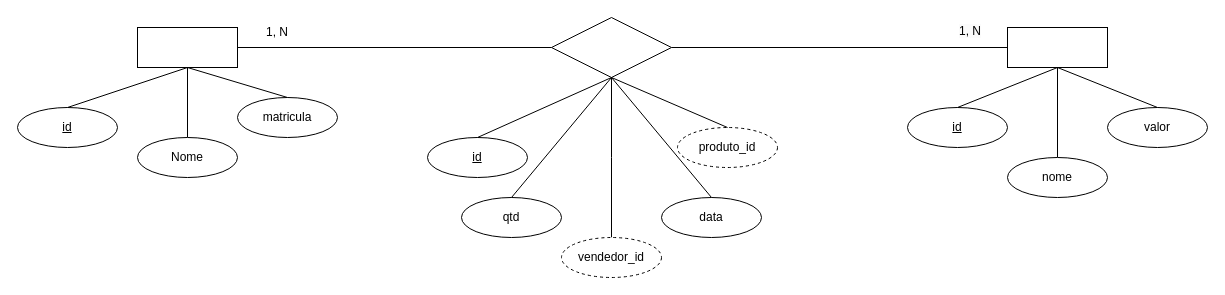
This 1225x295 diagram has some shape labels left out. The shapes that lost their labels are listed below. From the top down, each one's box as (x1, y1, x2, y2) in pixels, then its label:
(136, 26, 238, 68): Vendedores
(550, 16, 672, 78): Vendas
(1006, 26, 1108, 68): Produtos
